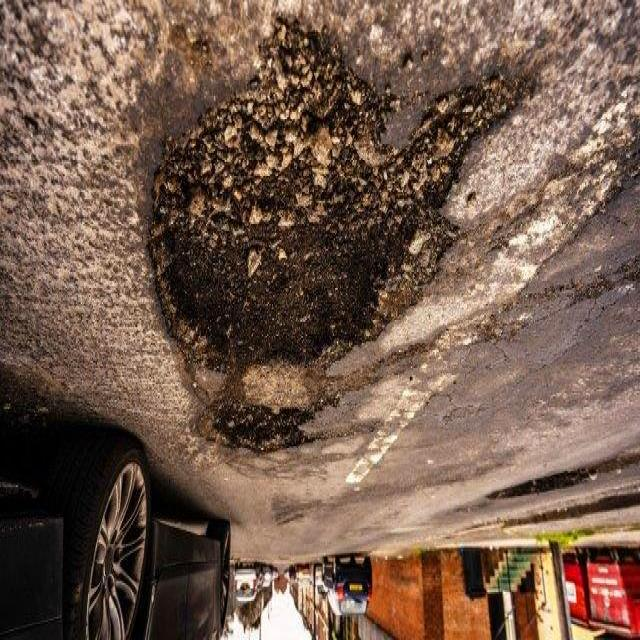jalan retak: (383, 231, 640, 393), (483, 146, 640, 283), (268, 494, 318, 542)
lubang: (138, 8, 540, 394), (191, 386, 382, 474), (482, 437, 640, 509)
